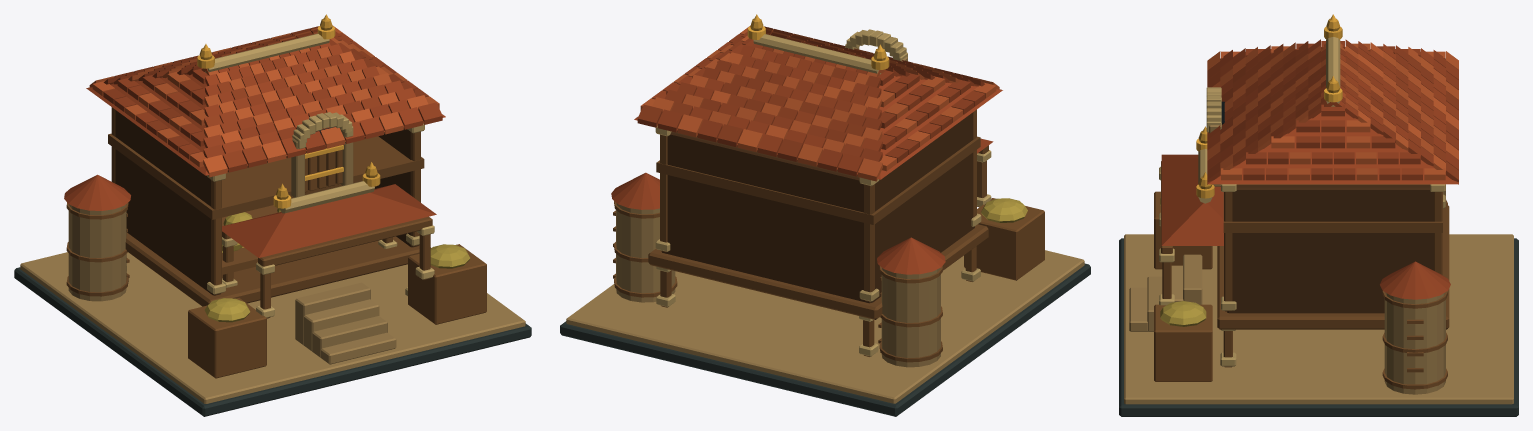
3 renders of one model, left to right at view 1: azimuth 30°, elevation 25°; view 2: azimuth 150°, elevation 25°; view 3: azimuth 270°, elevation 25°, orthographic. The views are drawn at different scales.
Parts seen in each view (by area): view 1: granary_7_structure, granary_7_metal; view 2: granary_7_structure; view 3: granary_7_structure, granary_7_metal.
Boxes of the visible parts, x1,y1,x2,y2 form: granary_7_structure: [14, 18, 531, 416]; granary_7_metal: [197, 14, 380, 208]; granary_7_structure: [560, 18, 1090, 416]; granary_7_structure: [1119, 18, 1518, 416]; granary_7_metal: [1196, 14, 1342, 198].
Size of the model in its own units: 5.6 by 4.46 by 5.6.
